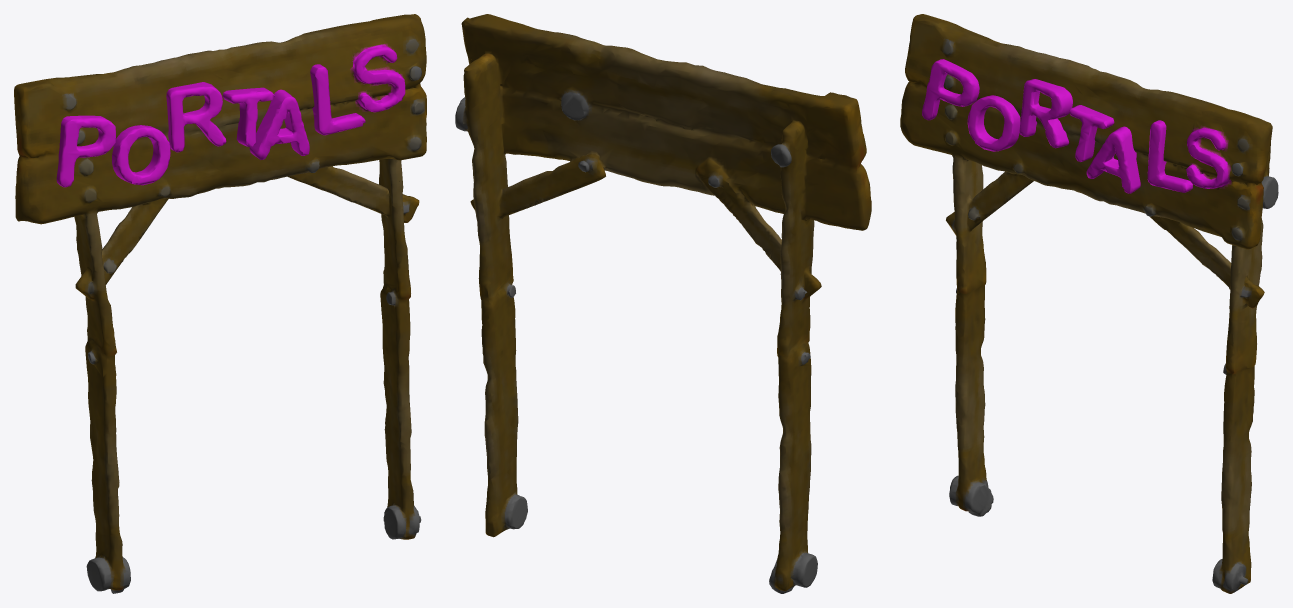
Rendered from portalssign2.fbx.
3 views of the same model, side by side, from view 1: azimuth 30°, elevation 25°; view 2: azimuth 150°, elevation 25°; view 3: azimuth 330°, elevation 25° (orthographic). The views are drawn at different scales.
Parts seen in each view (by area): view 1: group2; view 2: group2; view 3: group2.
Boxes of the visible parts, <box> form: group2: <box>14,14,426,593</box>; group2: <box>455,14,871,593</box>; group2: <box>900,14,1278,593</box>.
Size of the model in its own units: 83.62 by 104 by 16.68.
